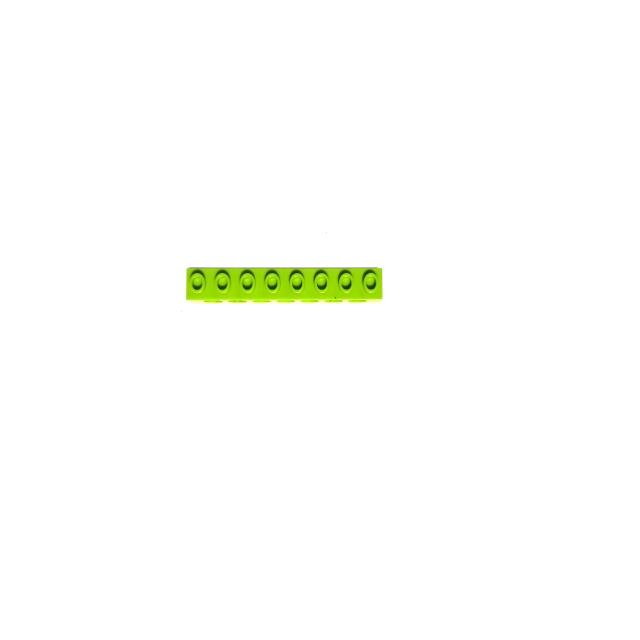Green_Medium: (182, 263, 388, 311)
